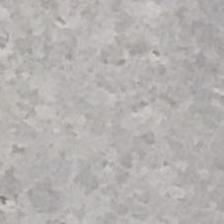Non_Crack: (12, 15, 208, 192)
